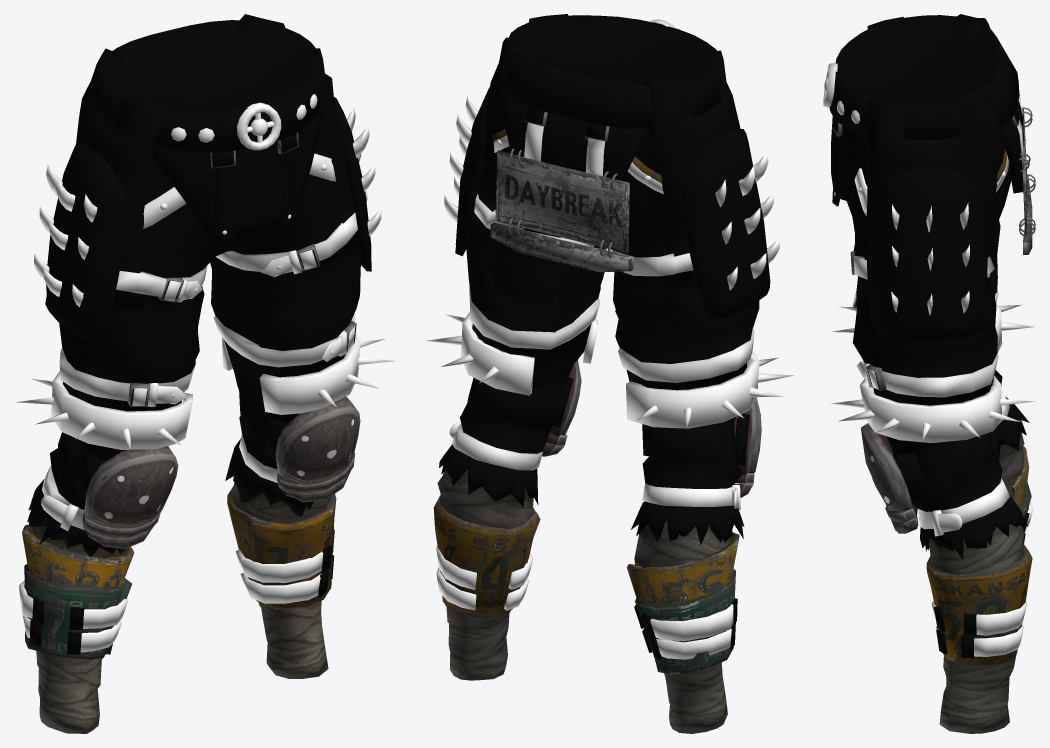
File: SurvivorMale_Legs_Pants_Reaver_LOD0.glb
3 views of the same model, side by side, from view 1: azimuth 30°, elevation 25°; view 2: azimuth 150°, elevation 25°; view 3: azimuth 270°, elevation 25° (orthographic). The views are drawn at different scales.
Parts seen in each view (by area): view 1: Hoodie; view 2: Hoodie; view 3: Hoodie.
Boxes of the visible parts, x1,y1,x2,y2 form: Hoodie: (16, 14, 395, 733); Hoodie: (426, 14, 793, 733); Hoodie: (823, 14, 1035, 733).
Bounding box in the file's own units: 0.5576 × 1 × 0.3096.
Materials: 1 (1 with a texture image).
